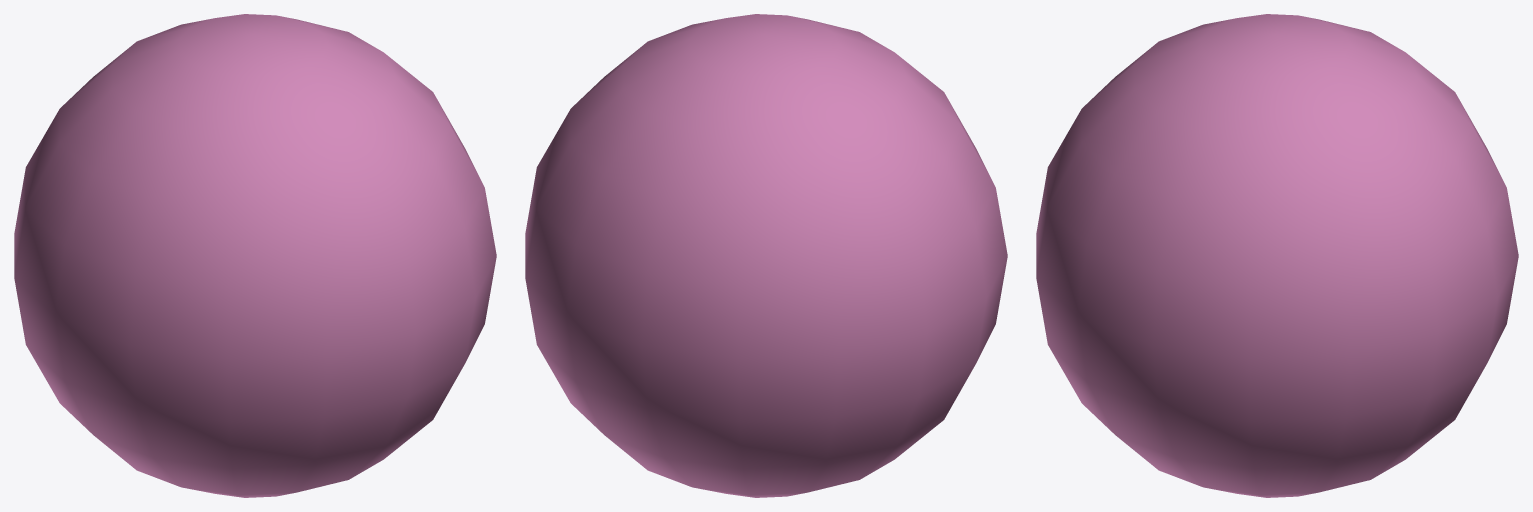
Rendered from projectile_rapidfire.obj.
3 renders of one model, left to right at view 1: azimuth 30°, elevation 25°; view 2: azimuth 150°, elevation 25°; view 3: azimuth 270°, elevation 25°, orthographic.
Visible parts, largest first — view 1: Sphere; view 2: Sphere; view 3: Sphere.
Boxes of the visible parts, x1,y1,x2,y2 form: Sphere: (14,14,496,497); Sphere: (525,14,1007,497); Sphere: (1036,14,1518,497).
Bounding box in the file's own units: 0.7459 × 0.75 × 0.7418.
